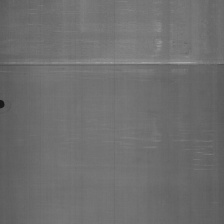welding_line: (0, 53, 224, 75), (0, 93, 6, 117)
